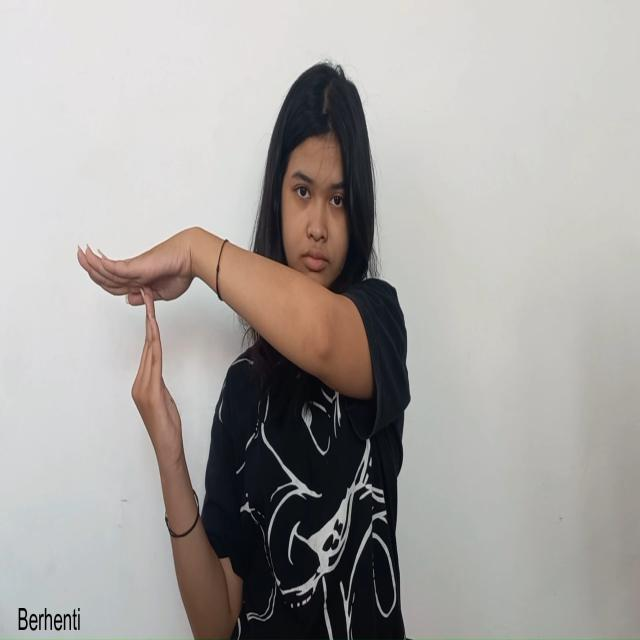Berhenti -BISINDO-: (76, 224, 202, 484)
